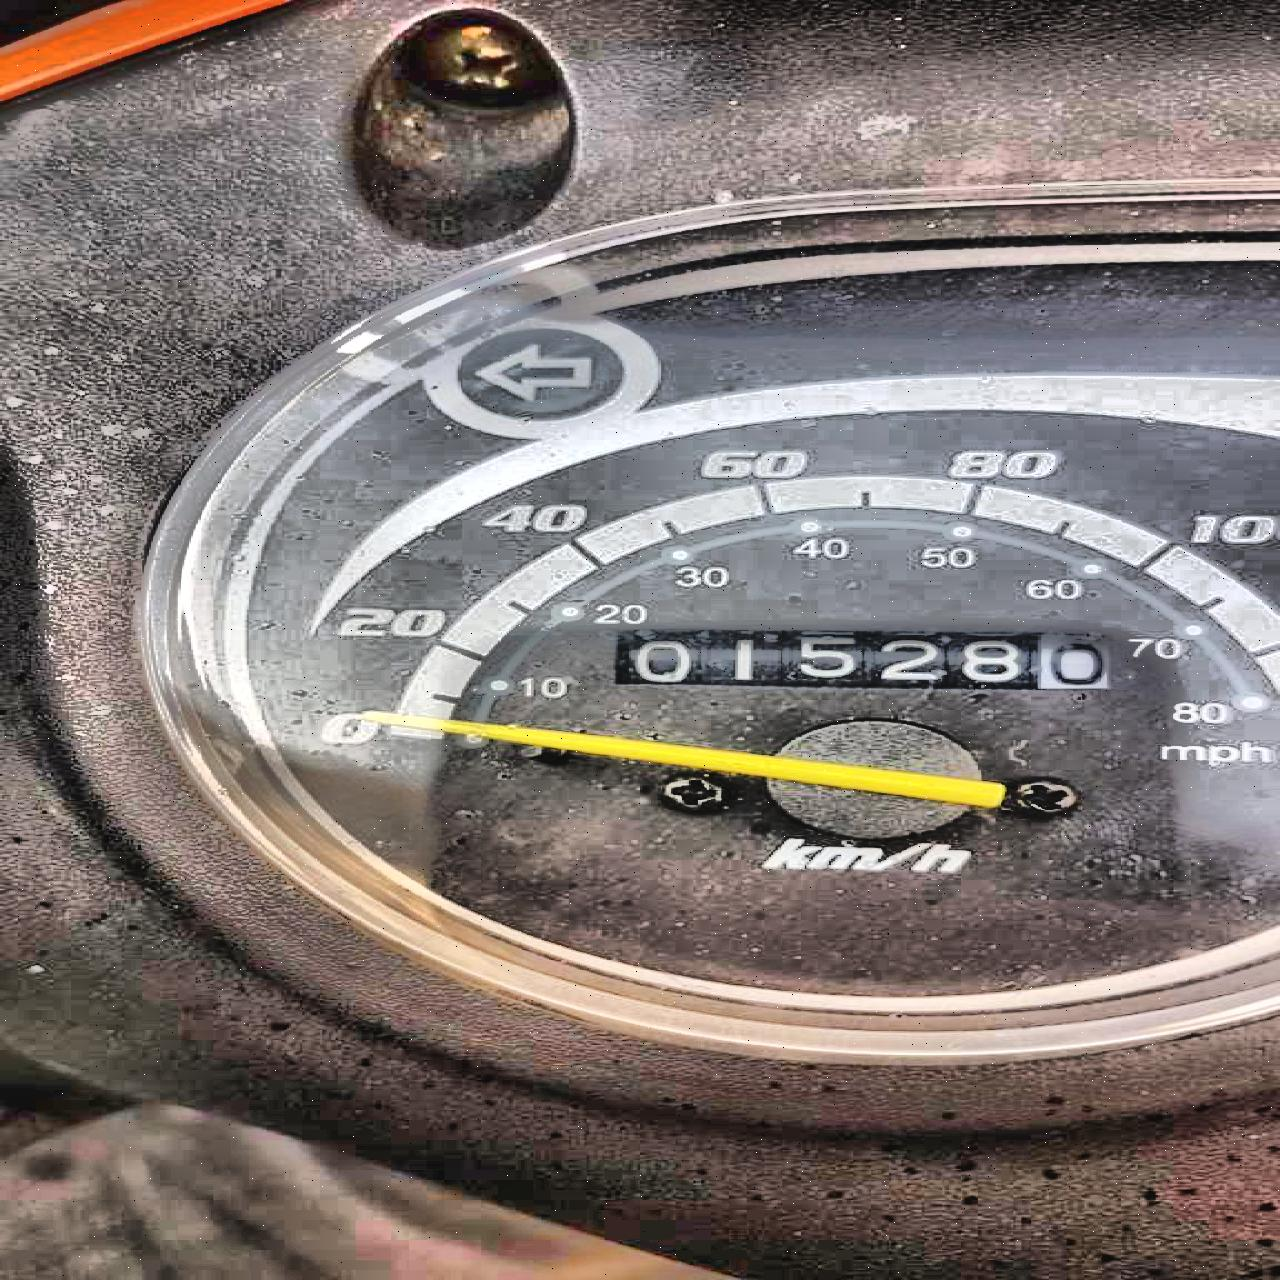0: (625, 635, 692, 685), (1044, 640, 1109, 686)
1: (724, 633, 763, 682)
2: (873, 636, 942, 682)
5: (789, 633, 860, 678)
8: (955, 636, 1024, 682)
odometer: (602, 621, 1121, 695)
